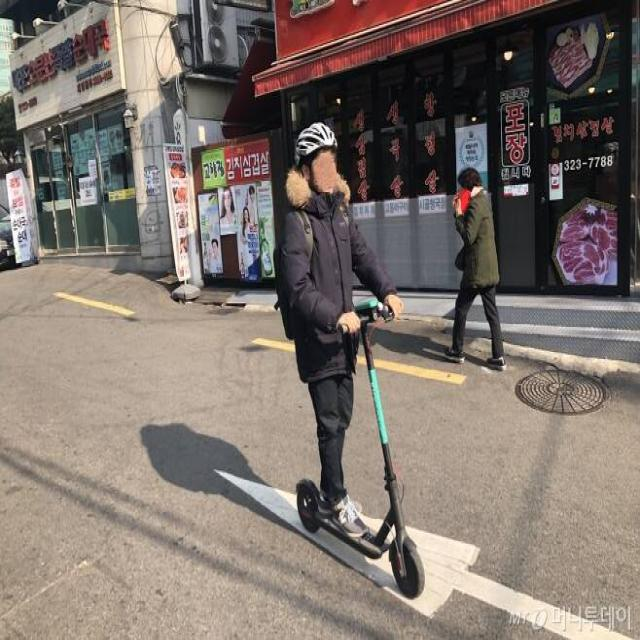helmet: (269, 122, 435, 603)
